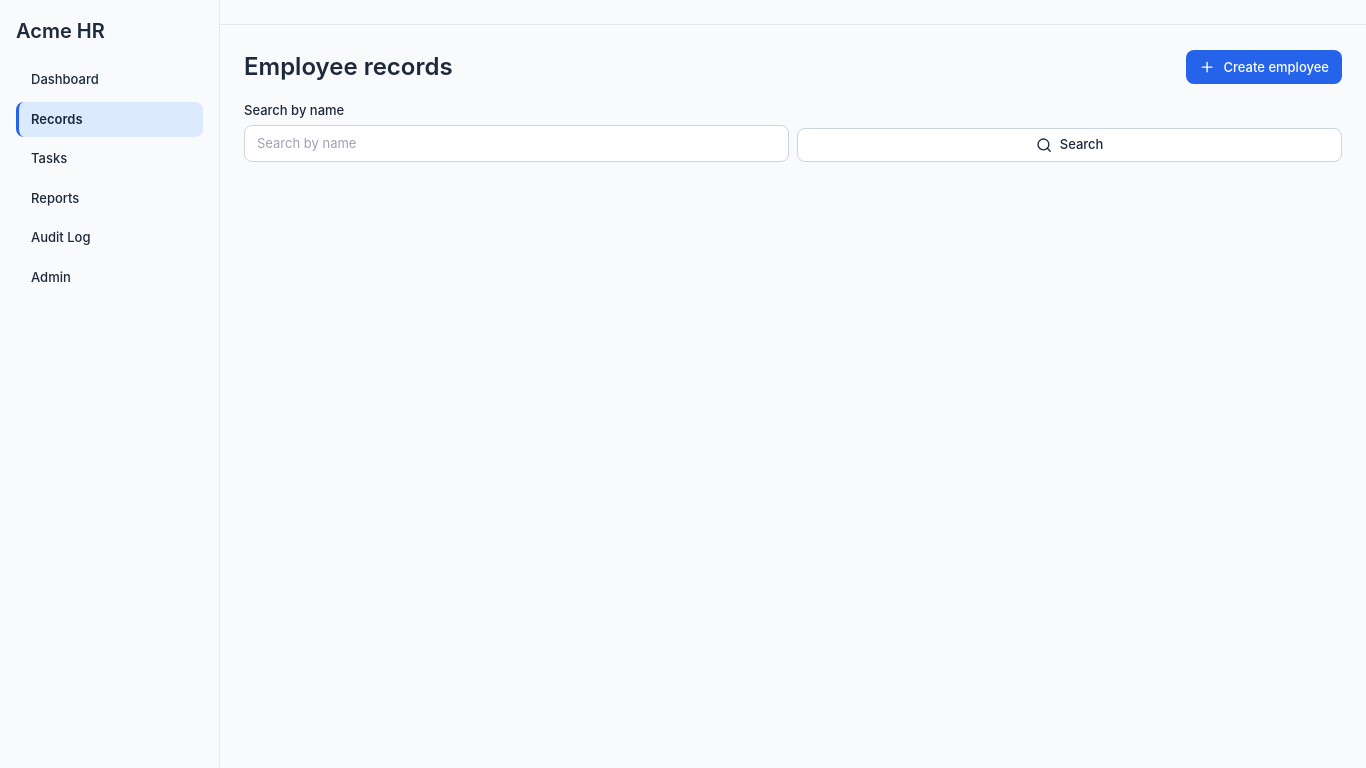
Test: EmployeesPage › lists employees matching the typed name (AC1)
Type "Priya" into the search field labelled "Search by name" at {"x": 516, "y": 143}, box [244,124,789,162]
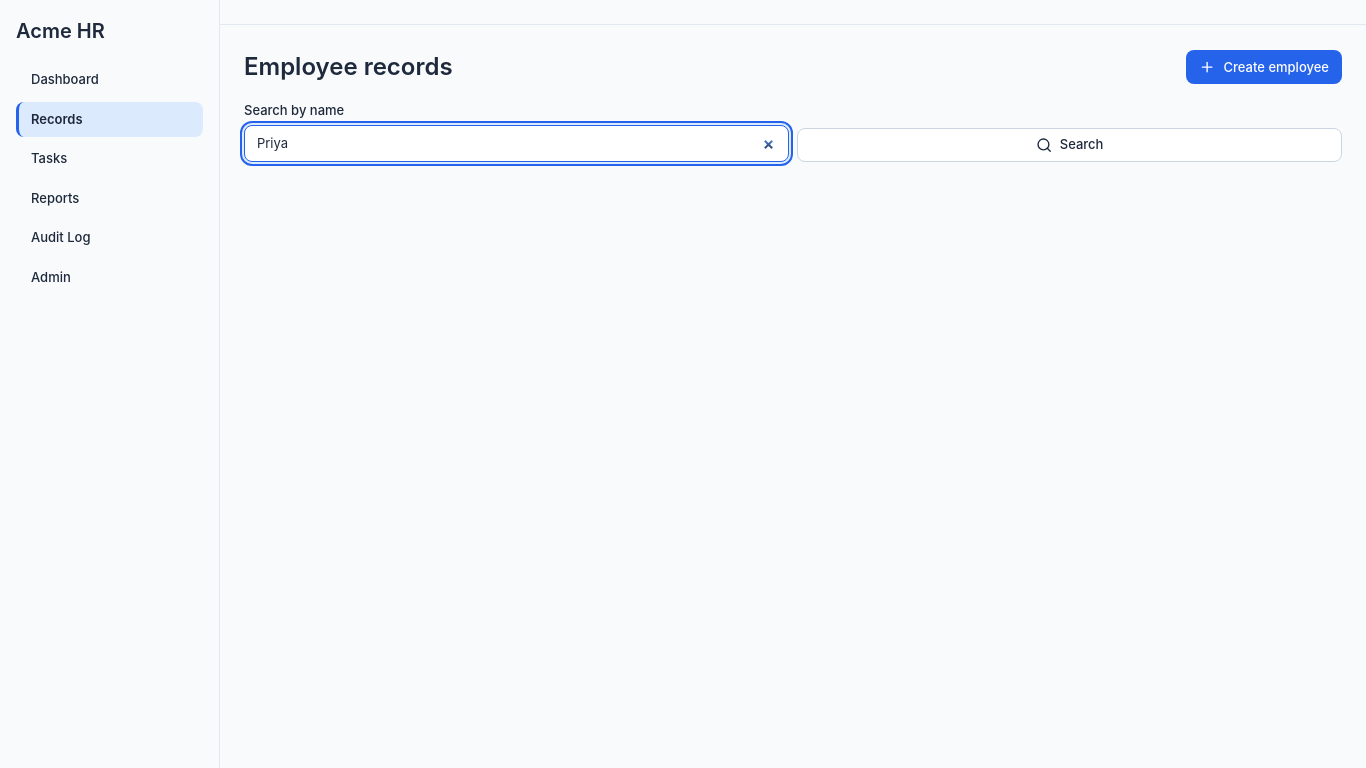
Click the button "Search" at {"x": 1070, "y": 145}, box [797,128,1342,162]
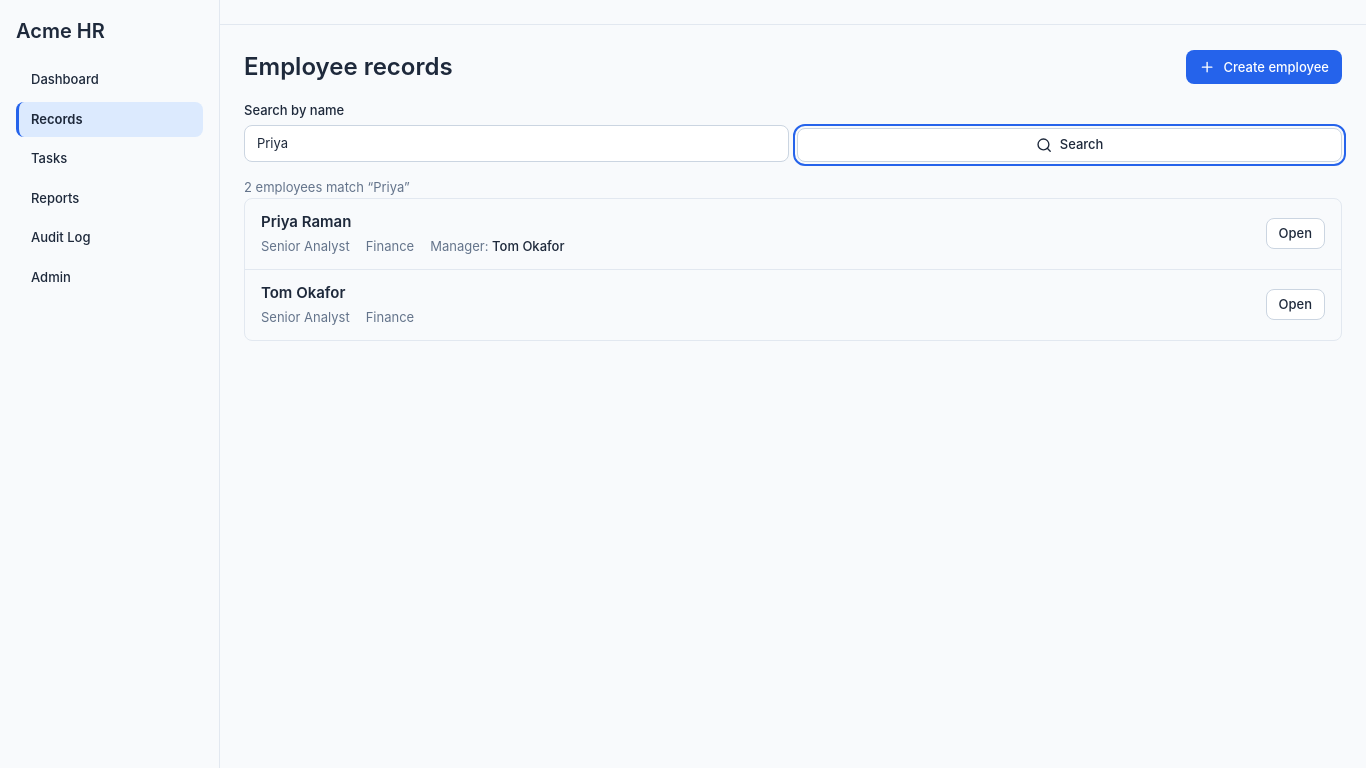
Check: the text "Priya Raman" is shown, box [261,212,351,230]
Check: the message shows "2 employees match", box [244,179,410,195]
Check: the text "Tom Okafor" next to "Manager:" is shown, box [492,238,564,254]
